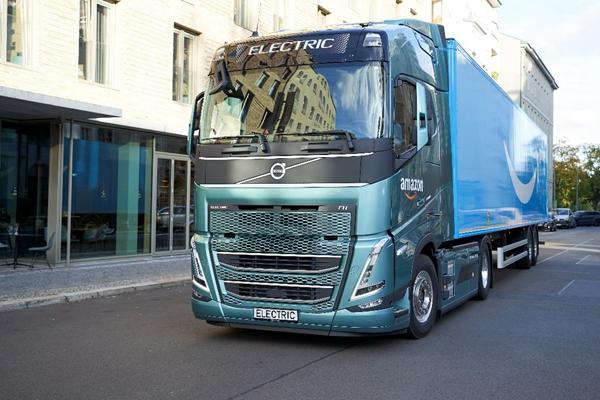卡车: (183, 18, 556, 338)
